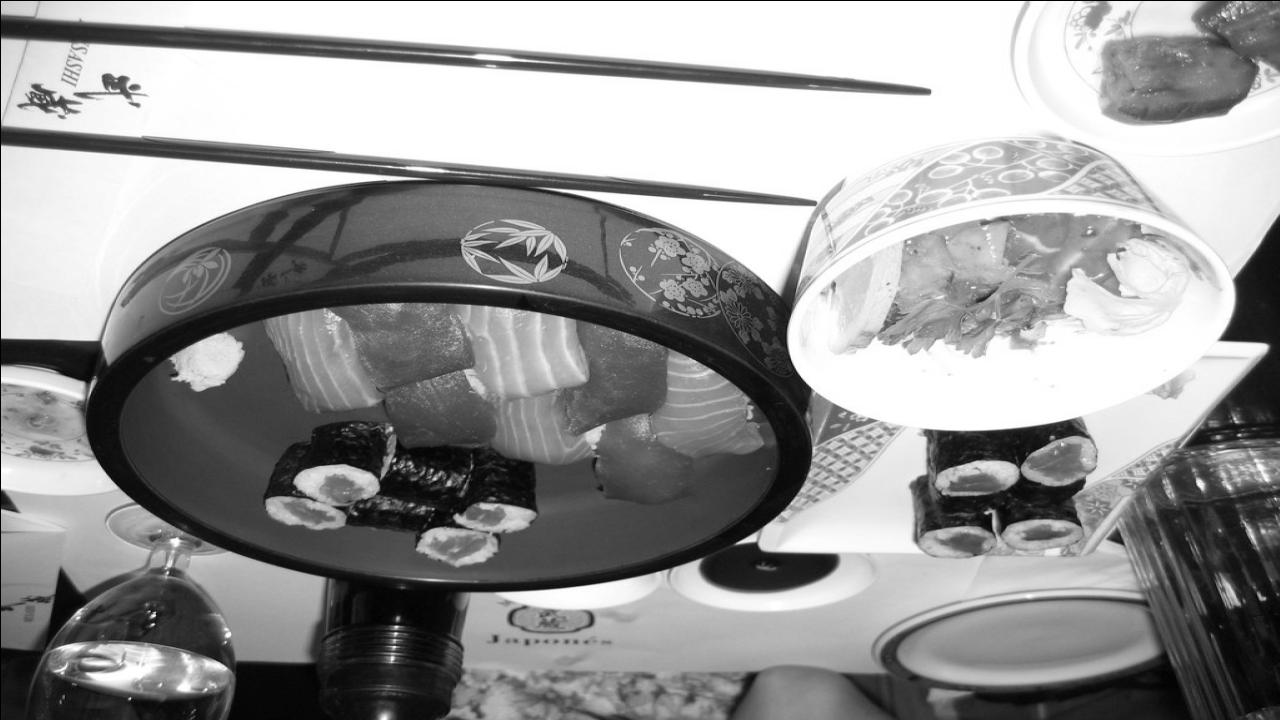chopstick: (0, 15, 933, 95), (0, 120, 822, 209)
